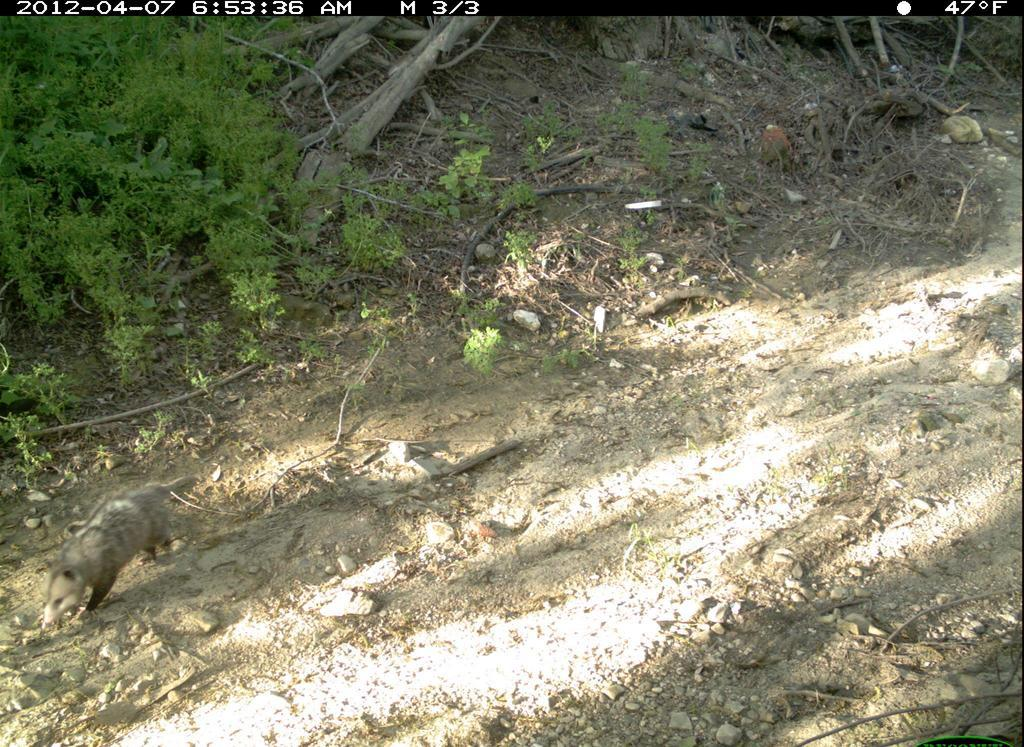opossum: (30, 470, 236, 639)
